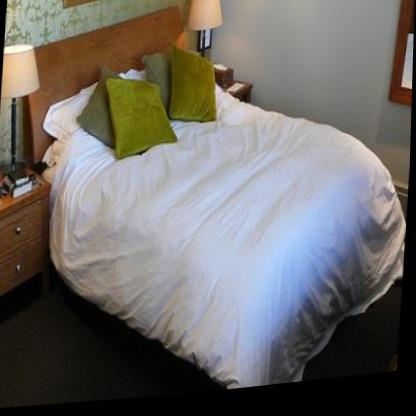Bed: (7, 0, 398, 415)
